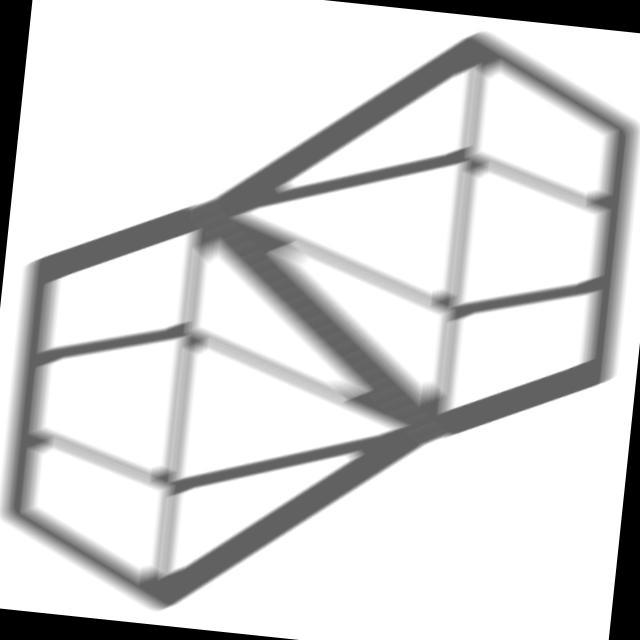diamond: (161, 1, 640, 472), (1, 176, 470, 640)
